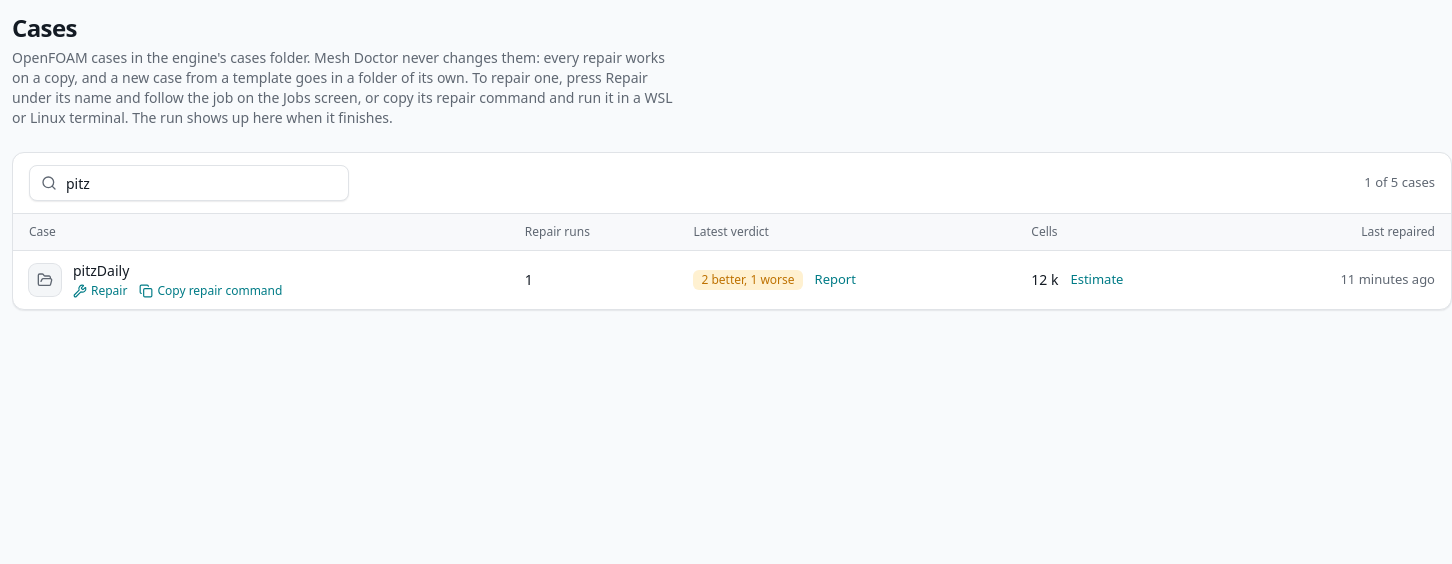
Test: the Cases screen › keeps what's typed in its filter box in the address, so a reload or a link keeps it
expect the text "1 of 5 cases" is shown: met, box [1364,173,1435,191]
Clear the search field named "Filter cases": (189, 183) [29,165,349,201]
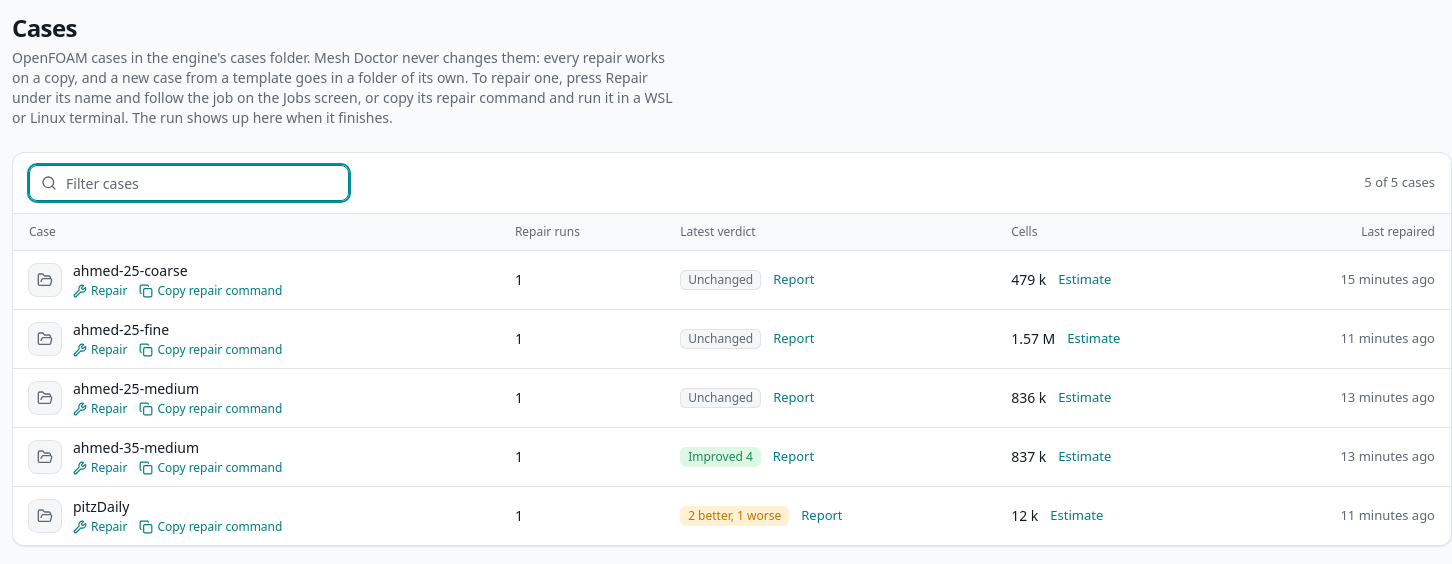
In the search field labelled "Filter cases": (189, 183) [29,165,349,201], type "ahmed-25"
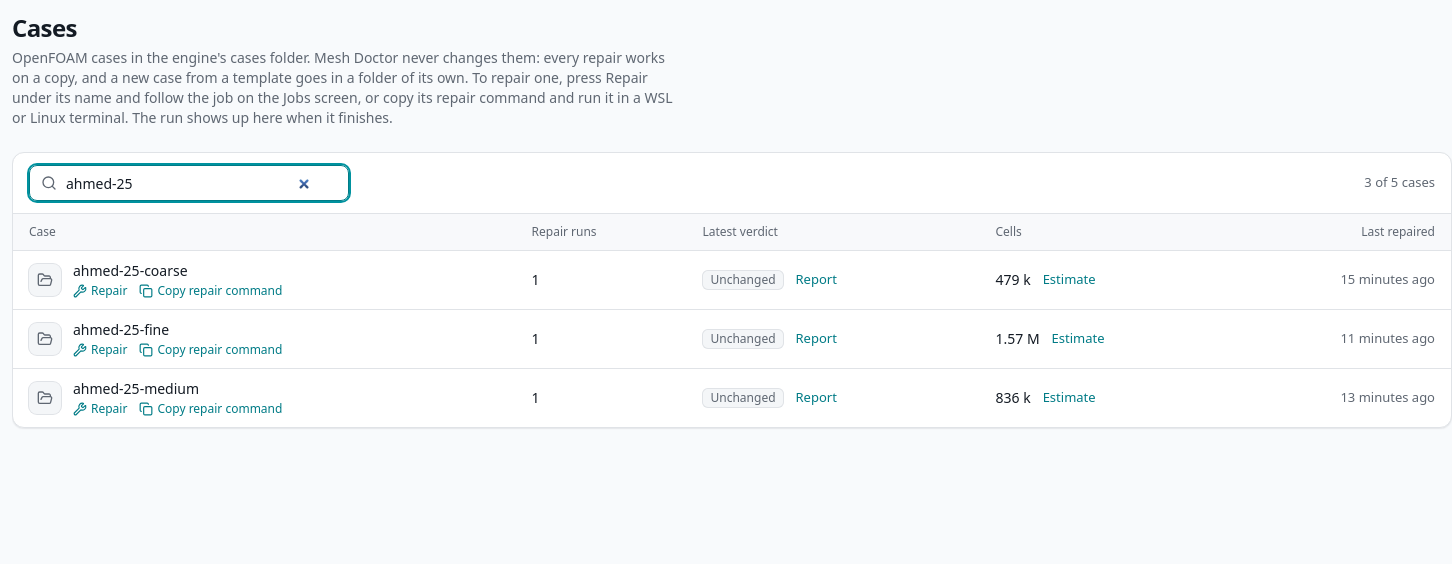
expect the text "3 of 5 cases" is shown: met, box [1364,173,1435,191]
